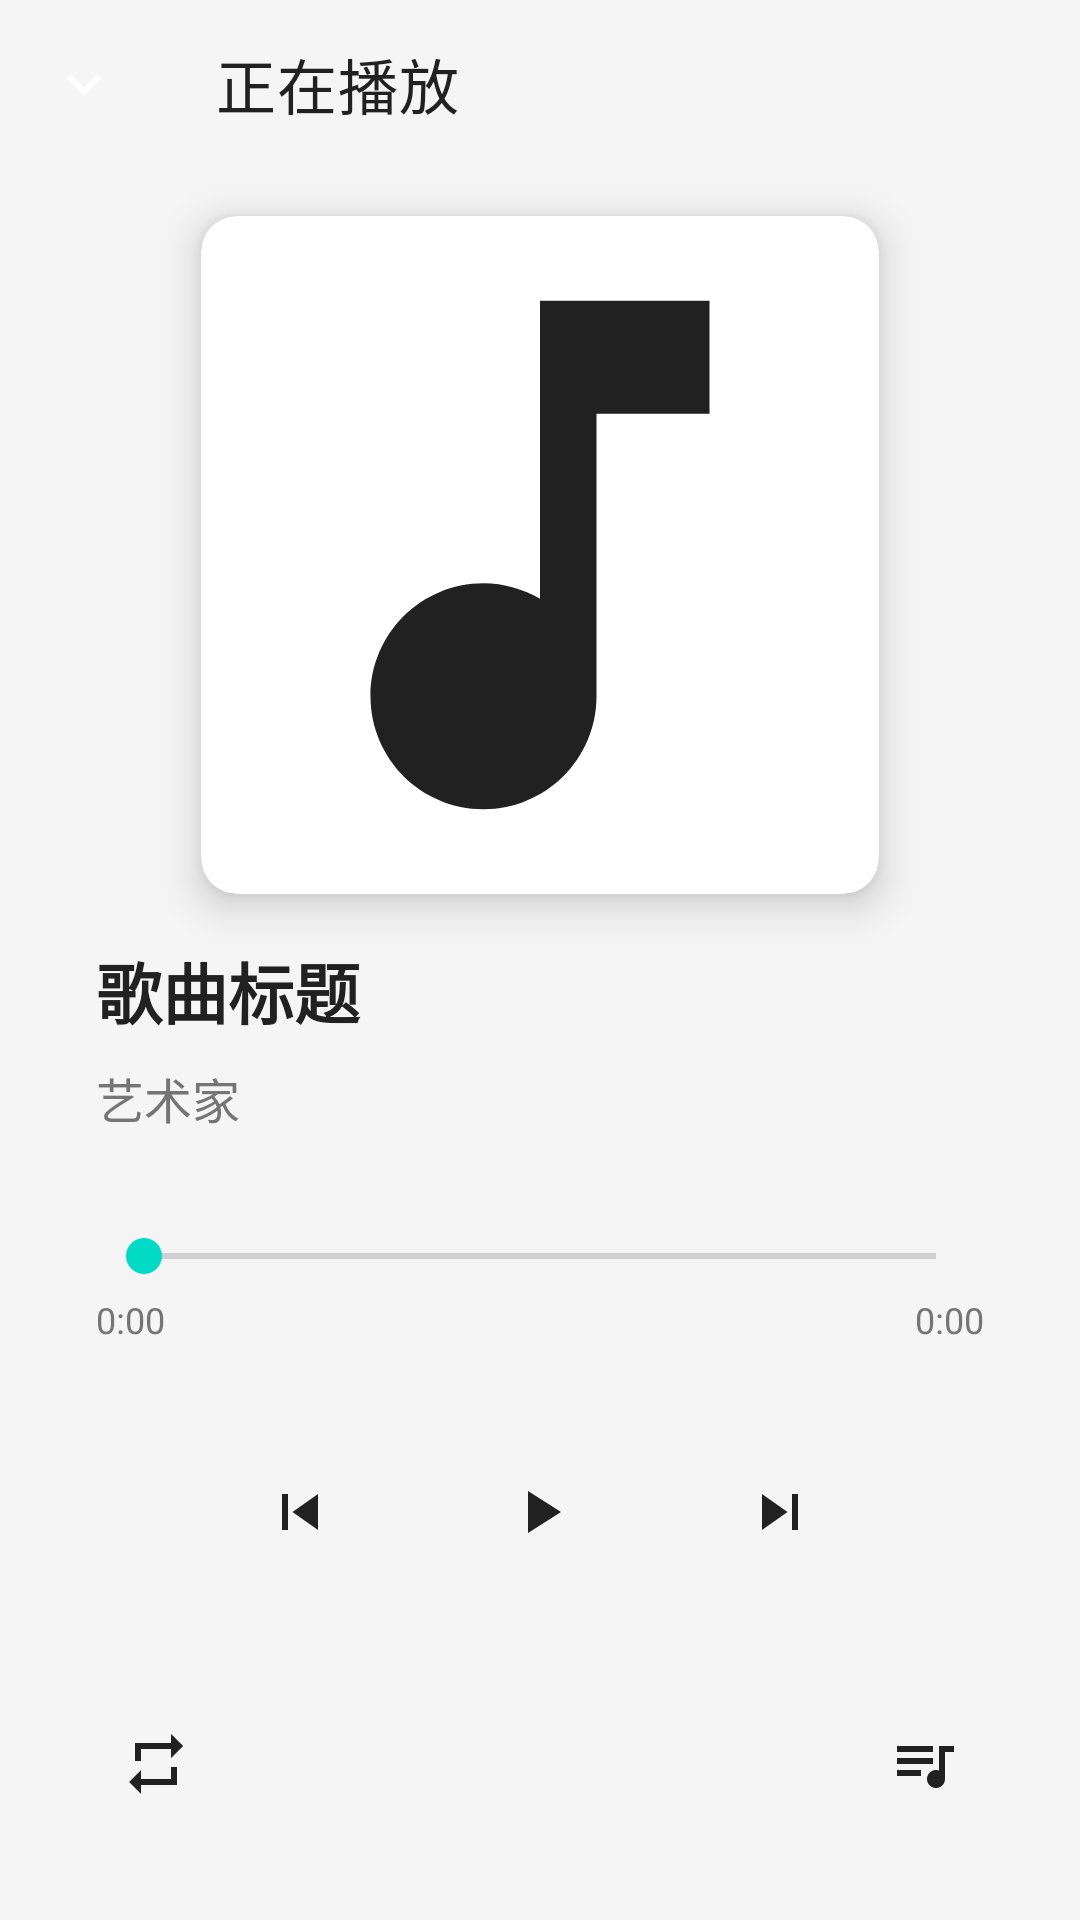

Named icons in this screenshot (1080×1920) and their bounding boxes, (x1, y1, x2, y2):
play: (528, 1491, 561, 1533)
previous: (282, 1494, 318, 1530)
queue music: (897, 1746, 954, 1788)
repeat: (129, 1734, 183, 1794)
skip next: (762, 1494, 798, 1530)
